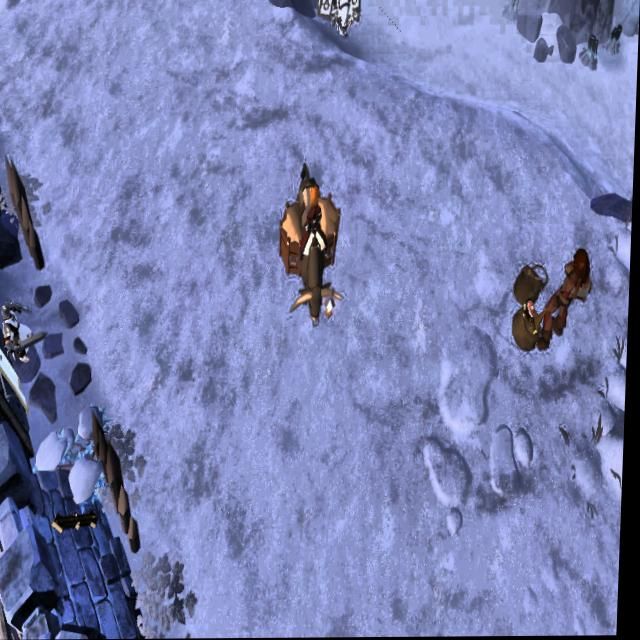enemy_factionKeeper: (543, 248, 594, 352)
